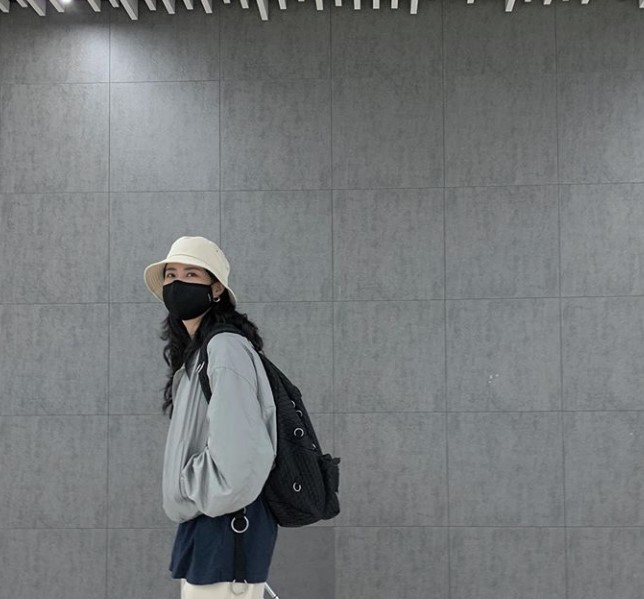face_with_mask: (145, 237, 229, 321)
